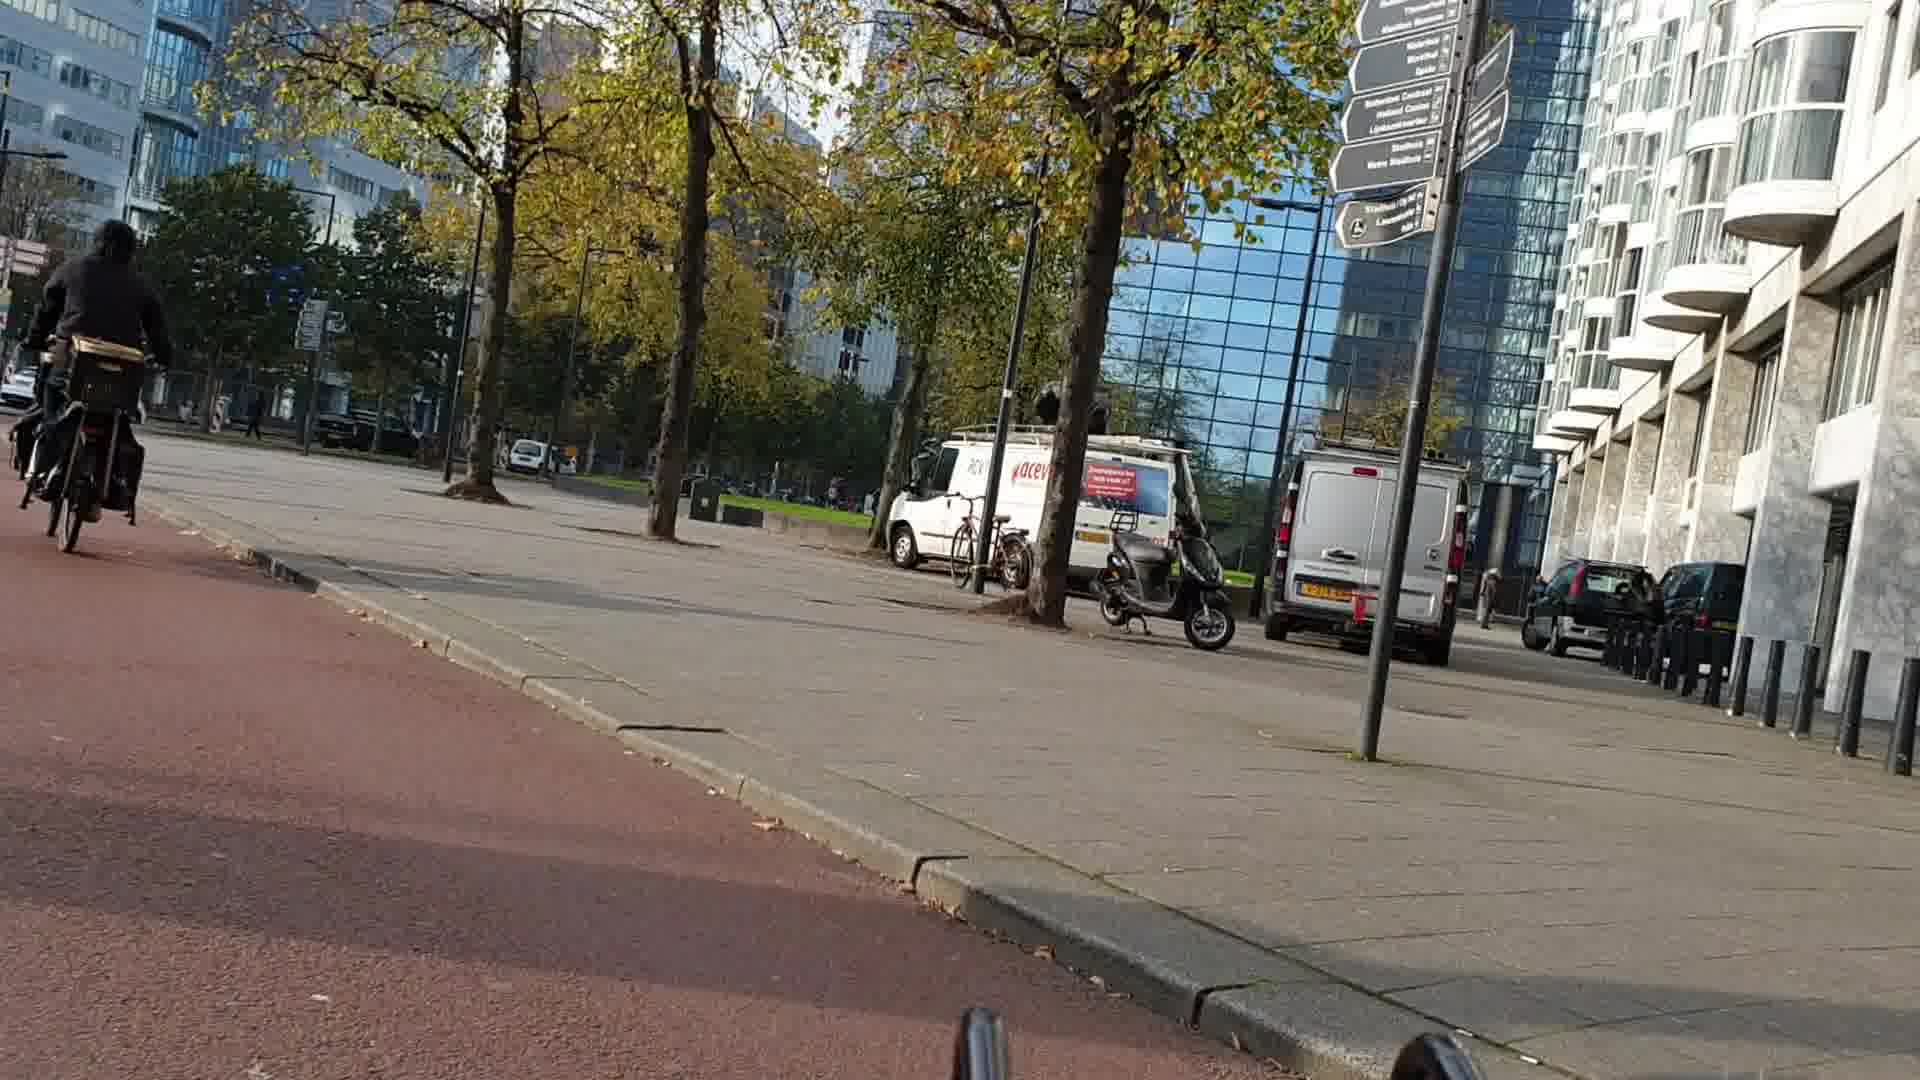car: (1280, 443, 1456, 661), (1527, 556, 1663, 661)
